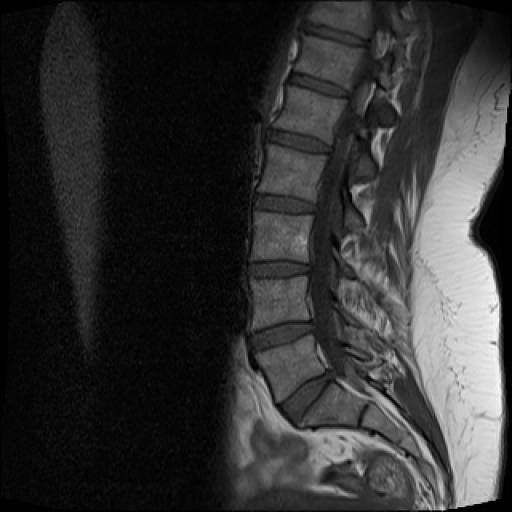L1: (274, 84, 346, 144)
L2: (258, 144, 327, 202)
L3: (252, 212, 312, 262)
L4: (251, 276, 310, 330)
L5: (255, 334, 325, 402)
S1: (298, 382, 367, 426)
